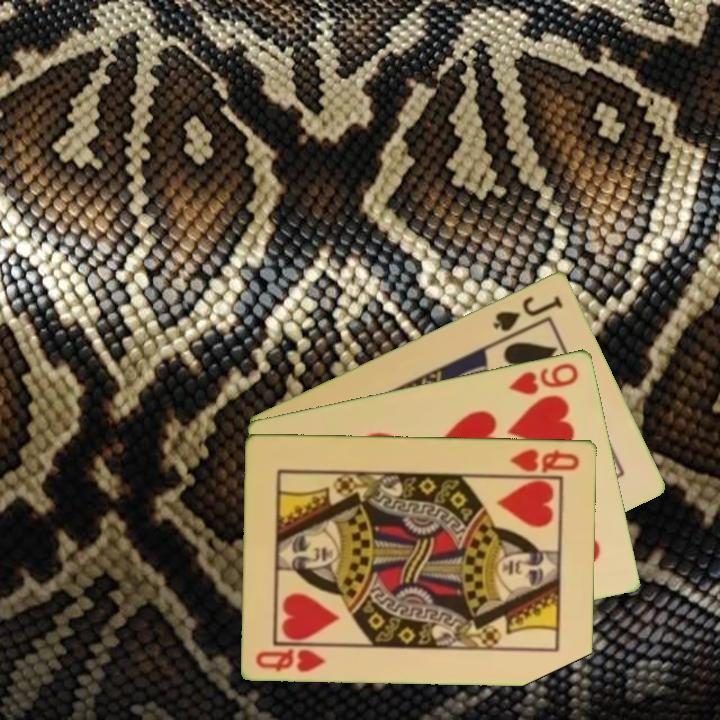9h: (506, 359, 582, 397)
Js: (489, 291, 566, 334)
Qh: (507, 445, 583, 476), (253, 645, 329, 675)
